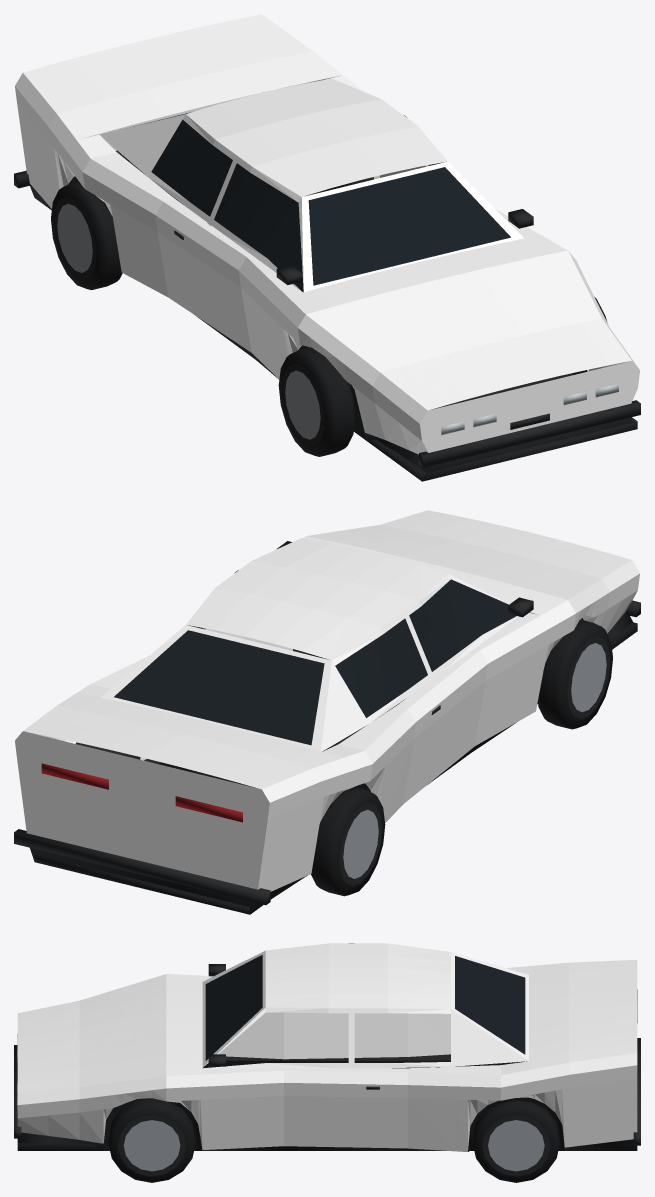
File: calderwood_satinado.glb
3 renders of one model, top to bottom at view 1: azimuth 30°, elevation 25°; view 2: azimuth 150°, elevation 25°; view 3: azimuth 270°, elevation 25°, orthographic. The views are drawn at different scales.
Visible parts, largest first — view 1: Body_Paint, Body_Details, Mount_FrontLeft_Wheel_Details, Mount_RearLeft_Wheel_Details; view 2: Body_Paint, Body_Details, Mount_FrontLeft_Wheel_Details, Mount_RearLeft_Wheel_Details; view 3: Body_Paint, Body_Details, Mount_FrontRight_Wheel_Details, Mount_RearRight_Wheel_Details.
Part boxes in pixels (box(x1,y1,x2,y2)): Body_Paint: box(15, 14, 639, 454); Body_Details: box(14, 112, 640, 481); Mount_FrontLeft_Wheel_Details: box(278, 347, 355, 456); Mount_RearLeft_Wheel_Details: box(51, 181, 122, 290); Body_Paint: box(15, 510, 639, 891); Body_Details: box(14, 541, 640, 914); Mount_FrontLeft_Wheel_Details: box(538, 619, 612, 729); Mount_RearLeft_Wheel_Details: box(311, 788, 385, 896); Body_Paint: box(17, 943, 637, 1151); Body_Details: box(14, 955, 640, 1151); Mount_FrontRight_Wheel_Details: box(108, 1098, 195, 1182); Mount_RearRight_Wheel_Details: box(472, 1100, 559, 1182).
Bounding box in the file's own units: 1.99 × 1.28 × 4.66.
Materials: 2 (1 with a texture image).
